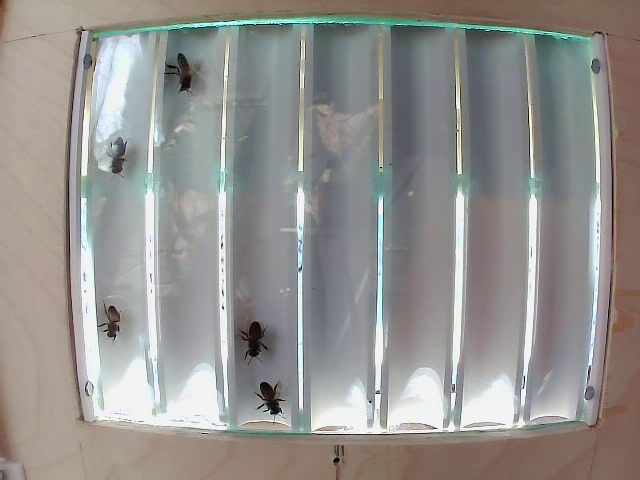bee: (242, 371, 296, 424), (100, 138, 143, 185), (95, 292, 134, 340), (241, 316, 280, 362), (162, 52, 201, 98)
